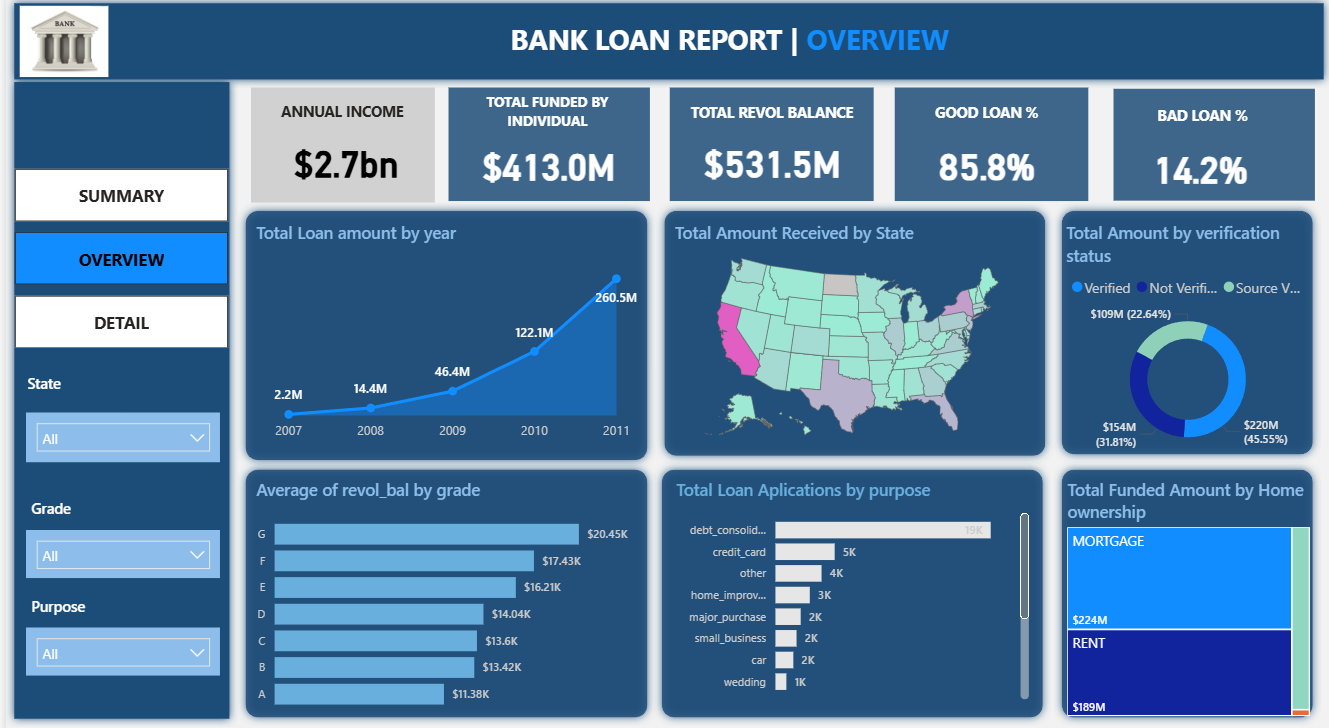

Layout of this report page (visuals, bound fields, positions):
{"tool":"tableau","page":{"name":"dashboard","canvas":[1000,1000],"units":"permille","ordinal":0},"visuals":[{"type":"image","param":"Image/bank-loan-icon_194117-655.jpg","box":[9,2.5,60.9,118.6]},{"type":"text","box":[68,11.2,424.2,96.1]},{"type":"parameter","param":"[Parameters].[Parameter 1]","box":[499.4,16.2,118.7,92.4]},{"type":"filter","title":"year wise","param":"[federated.1j36fev0yasegy143vj2t0ggm091].[yr:issue_d:ok]","box":[627.1,17.5,114.6,91.1]},{"type":"filter","title":"year wise","param":"[federated.1j36fev0yasegy143vj2t0ggm091].[none:purpose:nk]","box":[749.4,22.5,121.1,84.9]},{"type":"filter","title":"year wise","param":"[federated.1j36fev0yasegy143vj2t0ggm091].[none:loan_status:nk]","box":[875.3,23.7,112.2,84.9]},{"type":"worksheet","title":"KPI","mark":"Automatic","box":[7.8,106.1,137.8,484.4]},{"type":"worksheet","title":"grade & sub ","mark":"Automatic","rows":["revol_bal"],"cols":["grade","sub_grade"],"box":[540.6,127.3,446.3,436.9]},{"type":"worksheet","title":"Home owner ship","mark":"Automatic","box":[143.8,128.6,390.2,439.4]},{"type":"dashboard-object","box":[954.6,128.6,30.4,36.2]},{"type":"dashboard-object","box":[509.6,129.8,23.9,38.7]},{"type":"worksheet","title":"State and loan ","mark":"Automatic","rows":["last_credit_pull_d","loan_status"],"cols":["addr_state"],"box":[9,579.3,350.8,423.2]},{"type":"worksheet","title":"year wise","mark":"Bar","rows":["loan_amnt"],"cols":["issue_d"],"box":[362.8,579.3,332.9,417]},{"type":"dashboard-object","box":[334.1,580.5,25.7,36.2]},{"type":"worksheet","title":"veri vs non veri","mark":"Pie","rows":["Calculation_770397019854082052","Calculation_770397019854082052"],"box":[698.7,580.5,289.4,417]},{"type":"dashboard-object","box":[957.6,580.5,29.8,40]},{"type":"dashboard-object","box":[667.7,583,26.9,33.7]},{"type":"legend","title":"year wise","param":"[federated.1j36fev0yasegy143vj2t0ggm091].[none:loan_status:nk]","box":[453.5,634.2,218.4,44.9]},{"type":"legend","title":"veri vs non veri","param":"[federated.1j36fev0yasegy143vj2t0ggm091].[none:verification_status:nk]","box":[708.2,640.5,80.5,79.9]}]}

Visuals, with their boxes on the dashboard's canvas, which has no fixed pixel size, in thousandths of its width and height (x1, y1, x2, y2). These are canvas units, not pixel positions in the 1329x728 screenshot, which may show the page scaled, cropped or inside an application window:
image: [x1=9, y1=2, x2=70, y2=121]
text: [x1=68, y1=11, x2=492, y2=107]
parameter: [x1=499, y1=16, x2=618, y2=109]
"year wise" filter: [x1=627, y1=18, x2=742, y2=109]
"year wise" filter: [x1=749, y1=22, x2=870, y2=107]
"year wise" filter: [x1=875, y1=24, x2=988, y2=109]
"KPI" worksheet: [x1=8, y1=106, x2=146, y2=590]
"grade & sub " worksheet: [x1=541, y1=127, x2=987, y2=564]
"Home owner ship" worksheet: [x1=144, y1=129, x2=534, y2=568]
dashboard-object: [x1=955, y1=129, x2=985, y2=165]
dashboard-object: [x1=510, y1=130, x2=534, y2=168]
"State and loan " worksheet: [x1=9, y1=579, x2=360, y2=1002]
"year wise" worksheet (Bar marks): [x1=363, y1=579, x2=696, y2=996]
dashboard-object: [x1=334, y1=580, x2=360, y2=617]
"veri vs non veri" worksheet (Pie marks): [x1=699, y1=580, x2=988, y2=998]
dashboard-object: [x1=958, y1=580, x2=987, y2=620]
dashboard-object: [x1=668, y1=583, x2=695, y2=617]
"year wise" legend: [x1=454, y1=634, x2=672, y2=679]
"veri vs non veri" legend: [x1=708, y1=640, x2=789, y2=720]
